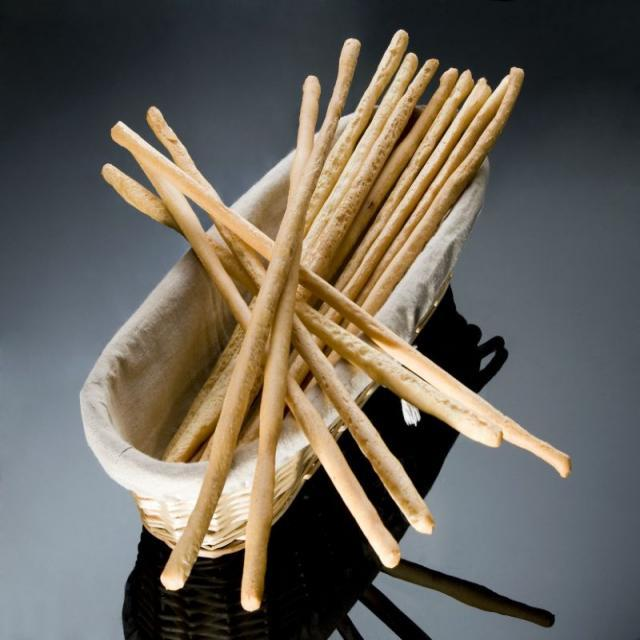Grissini: (86, 27, 580, 607)
